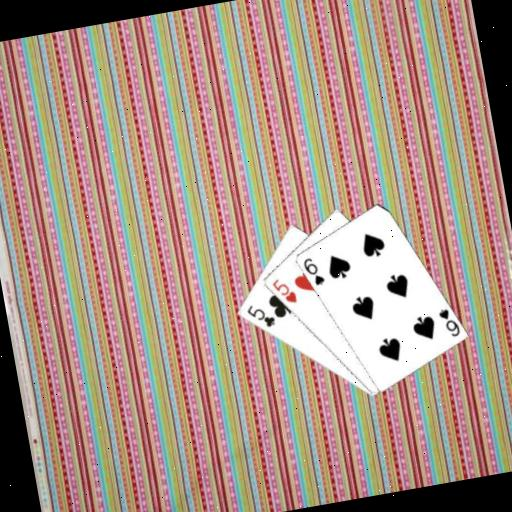5C: (242, 298, 278, 332)
5H: (268, 273, 299, 308)
6S: (299, 252, 326, 289), (435, 303, 462, 340)
